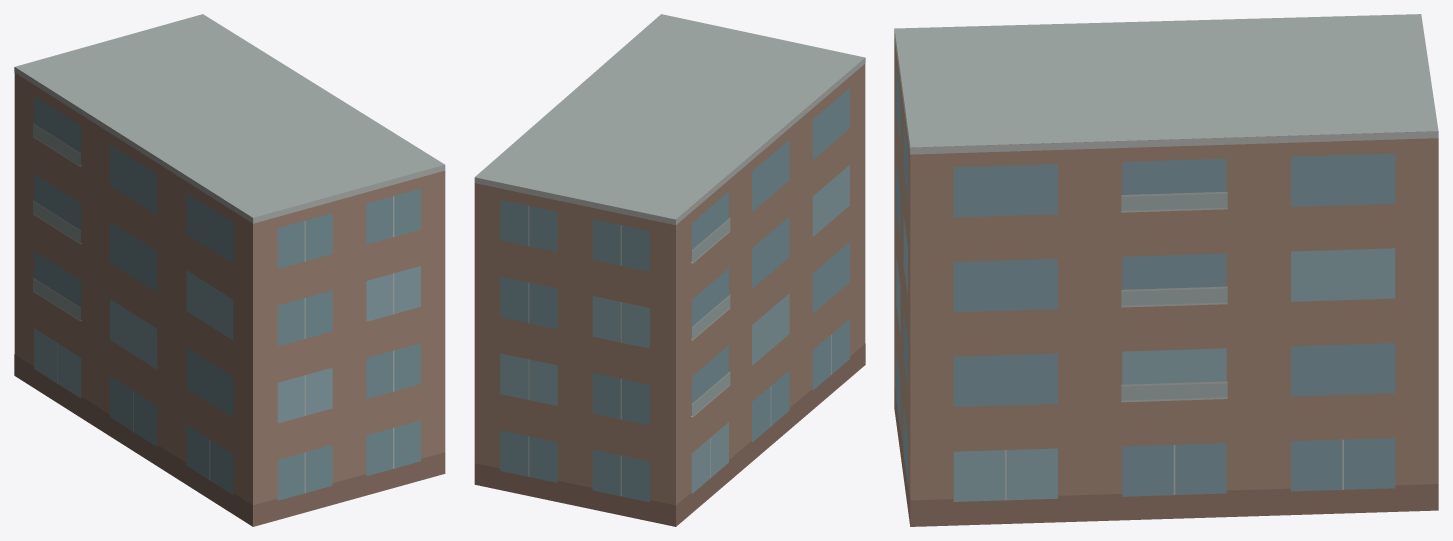
Rendered from survey-upis-32621030.glb.
3 renders of one model, left to right at view 1: azimuth 30°, elevation 25°; view 2: azimuth 150°, elevation 25°; view 3: azimuth 270°, elevation 25°, orthographic. The views are drawn at different scales.
Visible parts, largest first — view 1: survey-upis-32621030.tmp; view 2: survey-upis-32621030.tmp; view 3: survey-upis-32621030.tmp.
Part boxes in pixels (bbox=[...]): survey-upis-32621030.tmp: bbox=[14, 14, 445, 526]; survey-upis-32621030.tmp: bbox=[474, 14, 865, 526]; survey-upis-32621030.tmp: bbox=[894, 14, 1438, 526].
Bounding box in the file's own units: 9.9 × 13.1 × 17.04.
